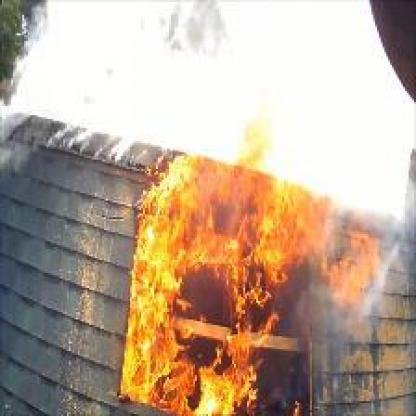fire: (104, 110, 376, 409)
